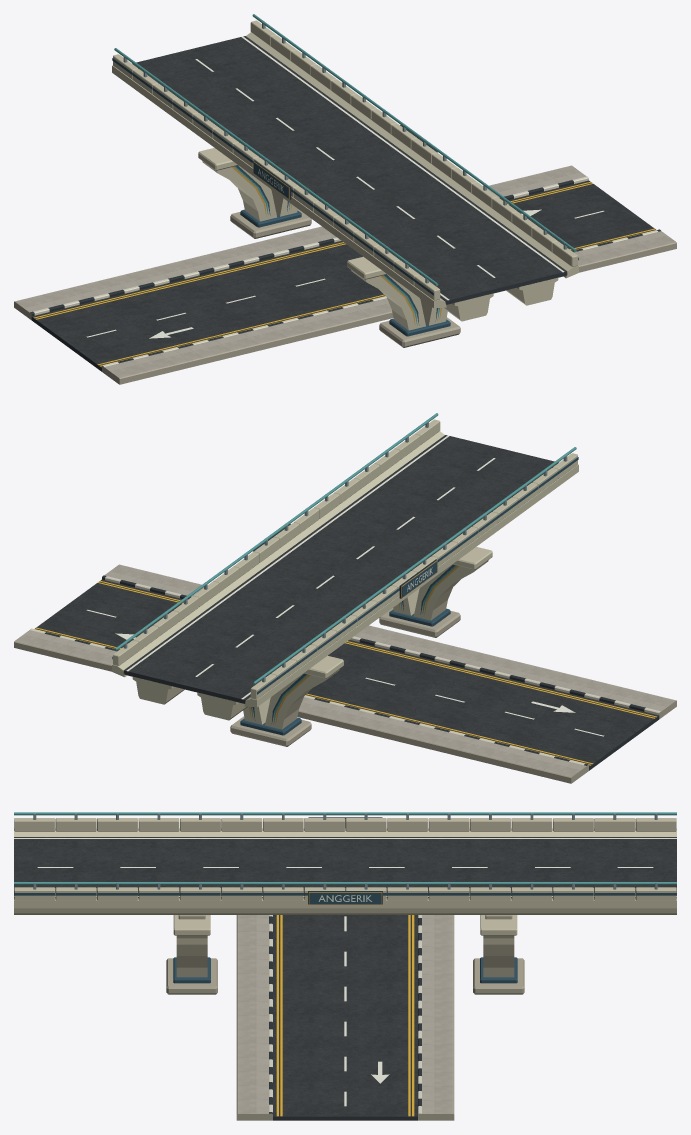
3 views of the same model, one above another, from view 1: azimuth 30°, elevation 25°; view 2: azimuth 150°, elevation 25°; view 3: azimuth 270°, elevation 25° (orthographic). The views are drawn at different scales.
Parts seen in each view (by area): view 1: Carriageway, Underpass street, Kerbs and Footways, Parapet panels, Cantilever cornices, Splayed wing piers, Parapet rails, Double yellow kerb lines, Pier spread footings, Precast box girders, Crosshead bolsters, Indigo stringcourse (+5 smaller); view 2: Carriageway, Underpass street, Kerbs and Footways, Parapet panels, Cantilever cornices, Splayed wing piers, Parapet rails, Double yellow kerb lines, Pier spread footings, Precast box girders, Crosshead bolsters, Indigo stringcourse (+5 smaller); view 3: Carriageway, Underpass street, Parapet panels, Kerbs and Footways, Cantilever cornices, Precast box girders, Parapet rails, Splayed wing piers, Double yellow kerb lines, Pier spread footings, Indigo stringcourse, Crosshead bolsters (+4 smaller).
Boxes of the visible parts, left/top/right/bottom form: Carriageway: left=132, top=36, right=567, bottom=304; Underpass street: left=31, top=180, right=655, bottom=371; Kerbs and Footways: left=14, top=165, right=676, bottom=384; Parapet panels: left=113, top=20, right=577, bottom=300; Cantilever cornices: left=112, top=32, right=578, bottom=308; Splayed wing piers: left=202, top=161, right=447, bottom=330; Parapet rails: left=114, top=14, right=576, bottom=285; Double yellow kerb lines: left=34, top=181, right=656, bottom=366; Pier spread footings: left=230, top=209, right=460, bottom=347; Precast box girders: left=443, top=277, right=558, bottom=321; Crosshead bolsters: left=198, top=148, right=386, bottom=279; Indigo stringcourse: left=112, top=58, right=578, bottom=295; Carriageway: left=123, top=435, right=558, bottom=703; Underpass street: left=35, top=579, right=659, bottom=770; Kerbs and Footways: left=14, top=564, right=676, bottom=783; Parapet panels: left=113, top=419, right=577, bottom=699; Cantilever cornices: left=112, top=431, right=578, bottom=707; Splayed wing piers: left=243, top=560, right=488, bottom=729; Parapet rails: left=114, top=413, right=576, bottom=684; Double yellow kerb lines: left=34, top=580, right=656, bottom=765; Pier spread footings: left=230, top=608, right=460, bottom=746; Precast box girders: left=132, top=676, right=247, bottom=720; Crosshead bolsters: left=304, top=547, right=492, bottom=678; Indigo stringcourse: left=112, top=457, right=578, bottom=694; Carriageway: left=14, top=837, right=676, bottom=898; Underpass street: left=273, top=915, right=417, bottom=1120; Parapet panels: left=14, top=818, right=676, bottom=900; Kerbs and Footways: left=236, top=915, right=454, bottom=1120; Cantilever cornices: left=14, top=828, right=676, bottom=908; Precast box girders: left=14, top=908, right=676, bottom=914; Parapet rails: left=14, top=812, right=676, bottom=884; Splayed wing piers: left=176, top=935, right=514, bottom=977; Double yellow kerb lines: left=276, top=915, right=414, bottom=1116; Pier spread footings: left=166, top=958, right=524, bottom=994; Indigo stringcourse: left=14, top=893, right=676, bottom=895; Crosshead bolsters: left=173, top=915, right=517, bottom=935.
Bounding box in the file's own units: 32 × 7.1 × 32.
15 materials, 2 textured.
